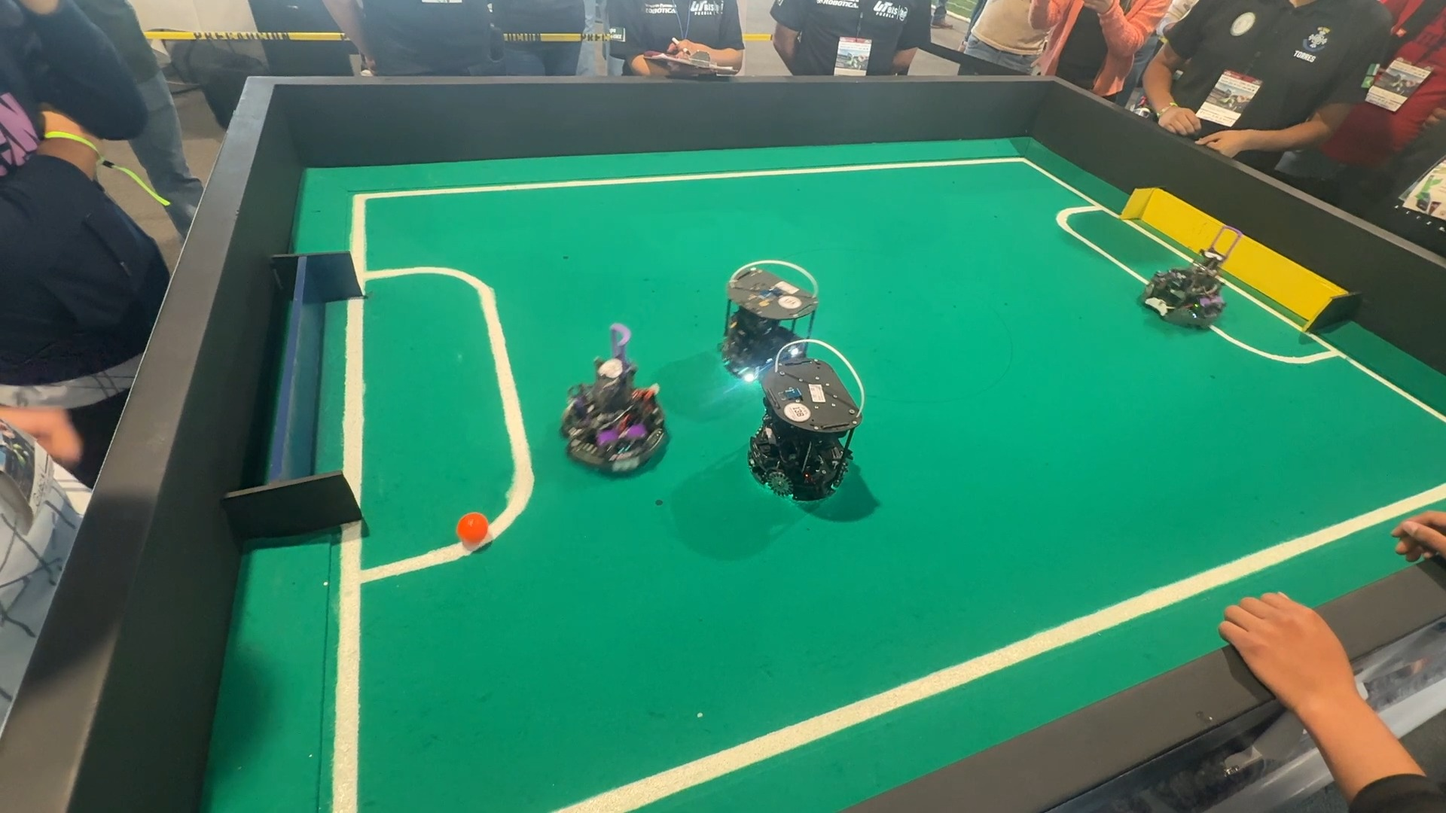Robot: (736, 331, 877, 537), (557, 314, 669, 490), (709, 256, 835, 387), (1133, 225, 1258, 341)
pelota: (454, 510, 495, 553)
